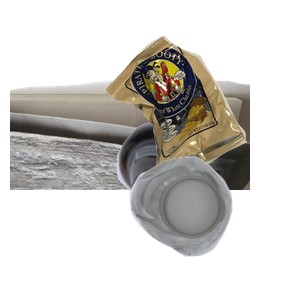glass: (115, 120, 300, 300)
paper: (10, 77, 250, 257)
plastic: (127, 154, 300, 300)
trash: (101, 33, 300, 206)
